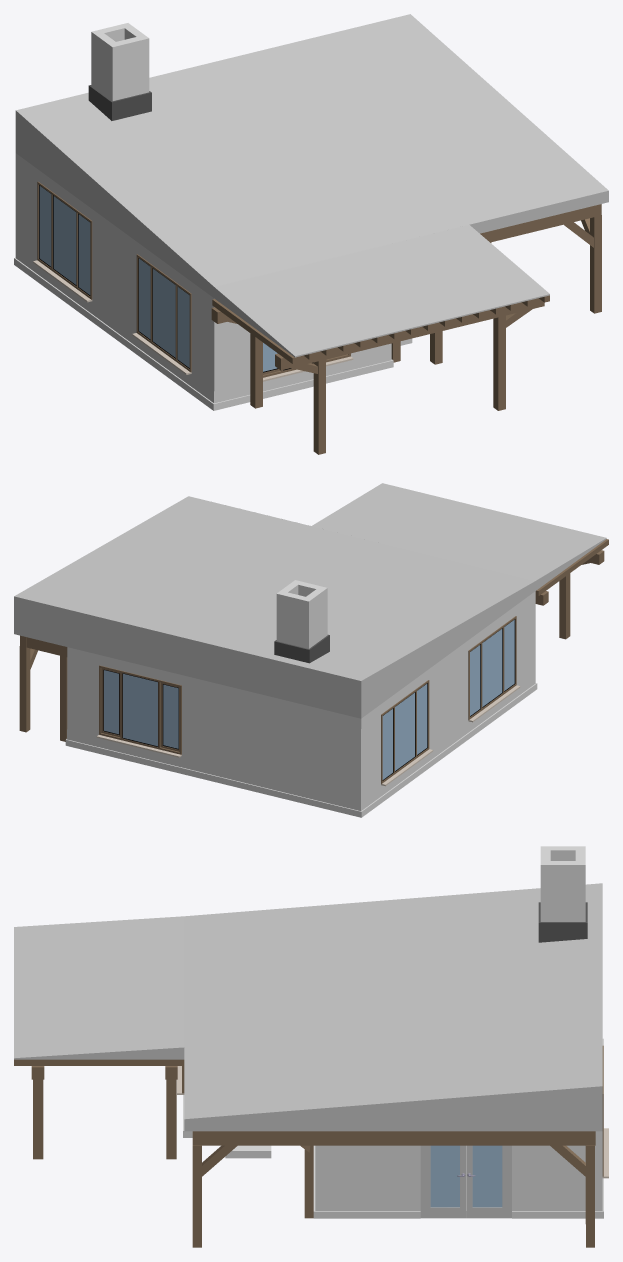
The model's file is Small guest house.dae.
The picture shows the model from 3 angles, top to bottom: view 1: azimuth 30°, elevation 25°; view 2: azimuth 150°, elevation 25°; view 3: azimuth 270°, elevation 25°; orthographic projection. The views are drawn at different scales.
Parts seen in each view (by area): view 1: roof, wall, Wood, Glass, roof_2, Pipe, Cokol, Pipe_2, Marble, Plastic; view 2: roof, wall, Glass, Wood, roof_2, Cokol, Pipe, Plastic, Marble, Pipe_2; view 3: roof, Wood, wall, roof_2, Glass, Pipe, Door_material, Cokol, Pipe_2.
Boxes of the visible parts, x1,y1,x2,y2 form: roof: (15, 14, 608, 356); wall: (15, 153, 391, 403); Wood: (37, 181, 601, 454); Glass: (39, 186, 277, 371); roof_2: (15, 142, 608, 357); Pipe: (91, 23, 149, 101); Cokol: (14, 257, 412, 410); Pipe_2: (88, 85, 151, 120); Marble: (33, 260, 353, 381); Plastic: (39, 185, 313, 372); roof: (14, 483, 606, 708); wall: (67, 591, 535, 810); Glass: (104, 620, 514, 779); Wood: (19, 539, 608, 783); roof_2: (14, 538, 606, 718); Cokol: (65, 683, 537, 817); Pipe: (276, 580, 327, 648); Plastic: (103, 619, 515, 780); Marble: (96, 685, 520, 786); Pipe_2: (274, 634, 329, 663); roof: (14, 883, 602, 1119); Wood: (14, 1045, 603, 1247); wall: (315, 1131, 602, 1210); roof_2: (14, 1047, 602, 1131); Glass: (430, 1145, 502, 1207); Pipe: (540, 846, 585, 921); Door_material: (420, 1145, 511, 1218); Cokol: (183, 1038, 603, 1218); Pipe_2: (538, 902, 587, 942).
Size of what is drawn, in the model's own units: 10.68 by 13.03 by 5.67.
